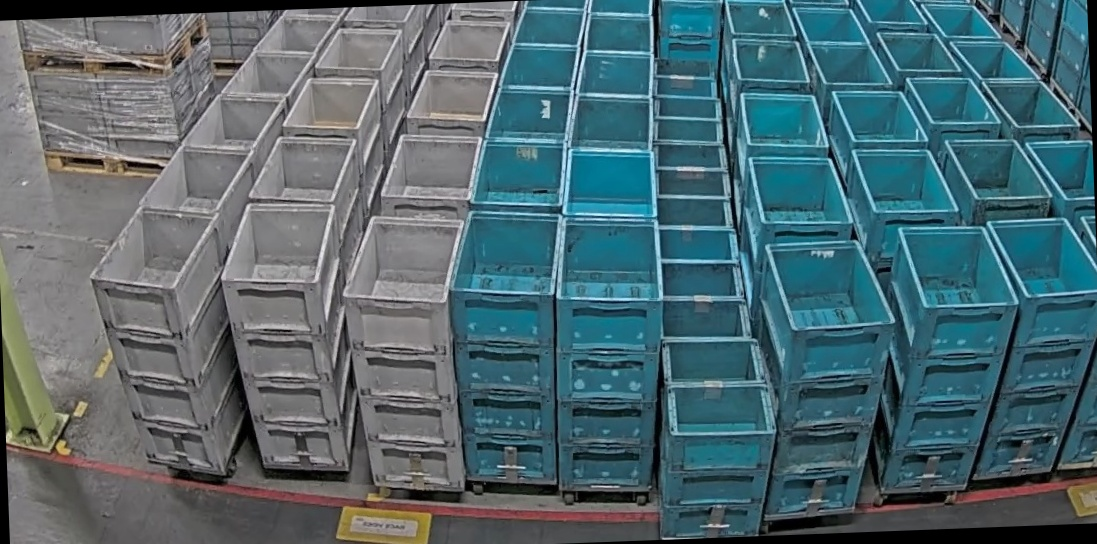4G: (85, 201, 247, 480), (219, 201, 362, 474), (339, 211, 474, 493)
B4: (864, 223, 1025, 489), (757, 238, 904, 515), (961, 215, 1097, 480), (445, 207, 570, 488), (552, 214, 670, 494)
B8: (654, 337, 781, 538)
